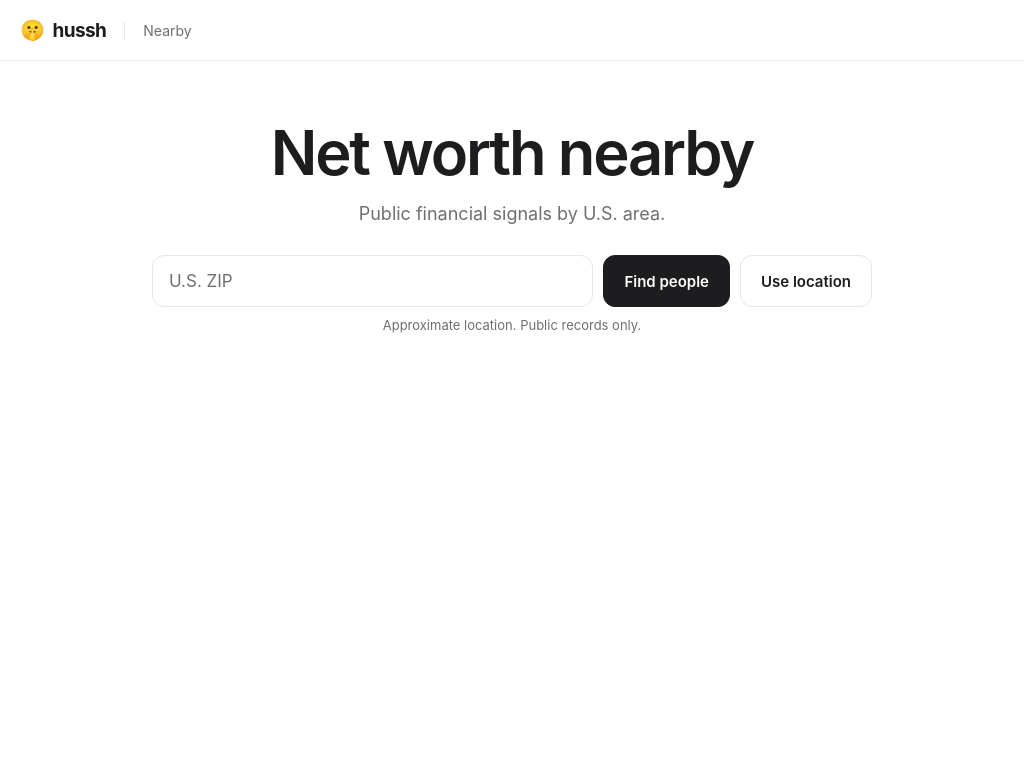
Test case: NearbyPeople v4 › maps 401 to calm recovery copy
This screenshot has width=1024, height=768.
Type "32301" into the field named "U.S. ZIP code" at (373, 282), box [152, 256, 593, 308]
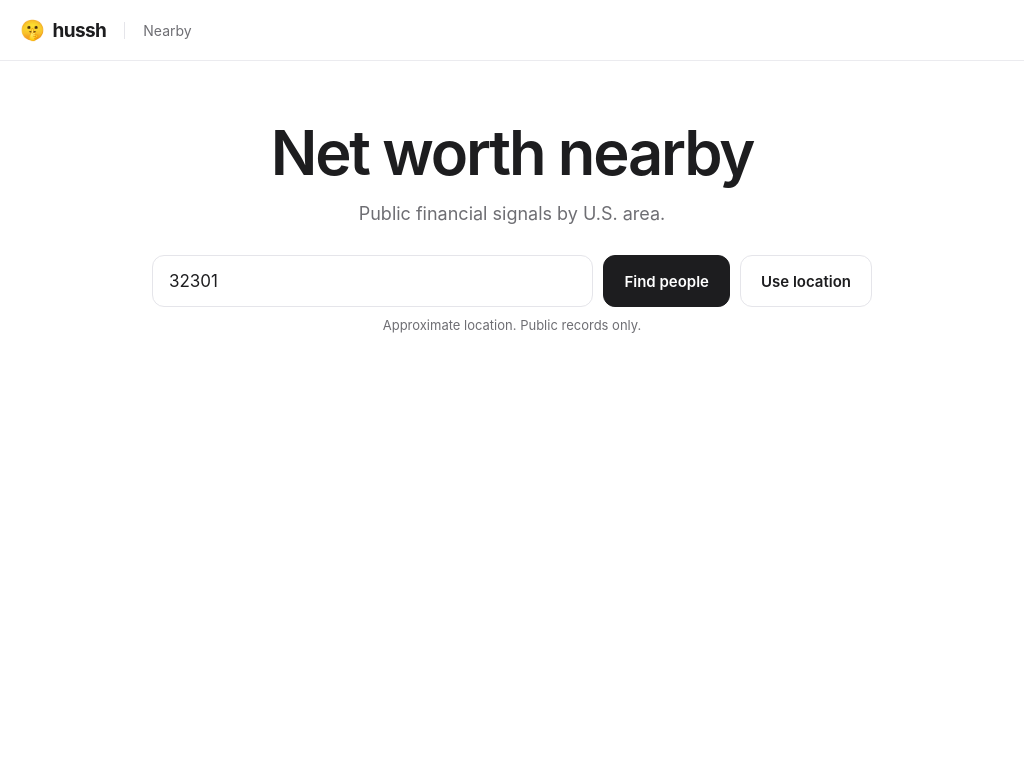
Click the button "Find people" at (667, 282), box [603, 256, 730, 308]
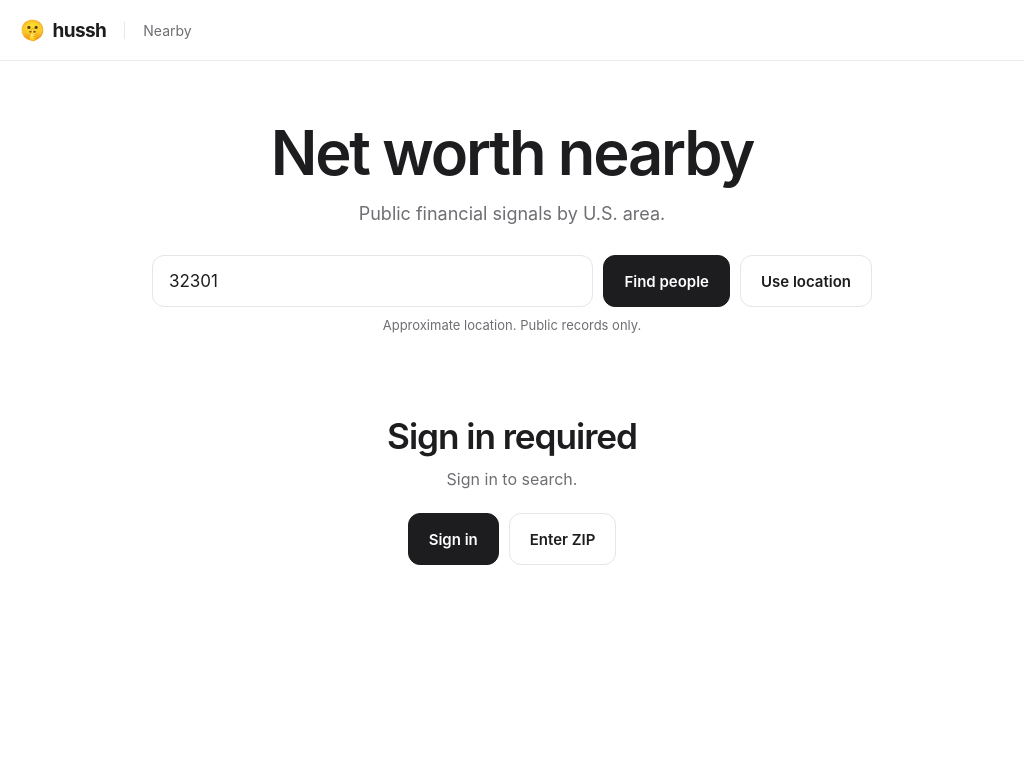
Result: the heading "Sign in required" is shown at [387, 415, 637, 457]
Result: the text "Sign in to search." is shown at [447, 469, 577, 489]
